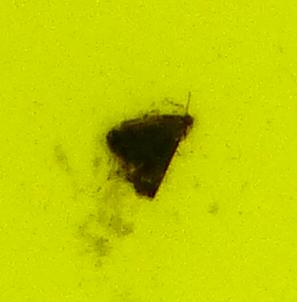Lepidoptera: (100, 100, 197, 202)
